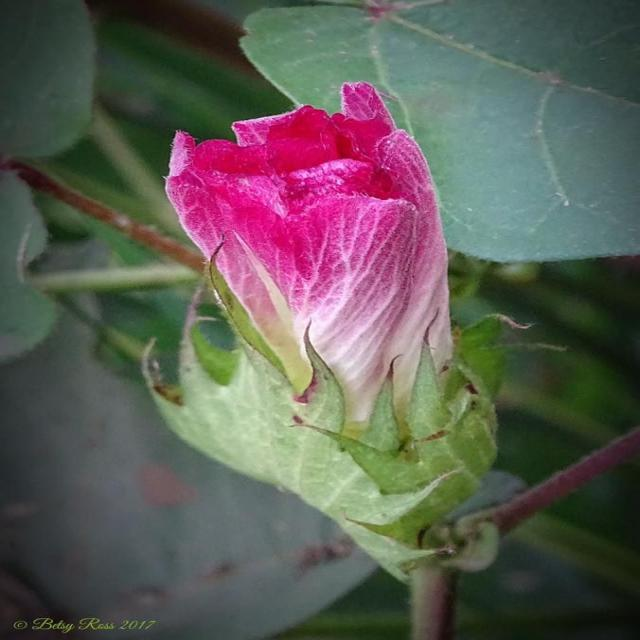Cotton Blossom: (140, 94, 522, 566)
